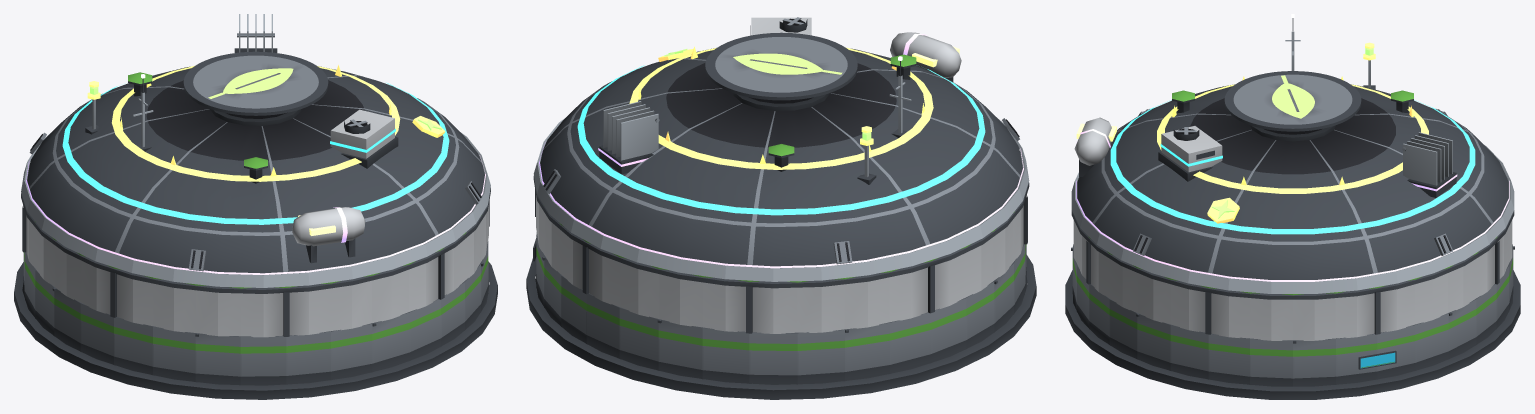
Rendered from fungus_farm_s.glb.
3 renders of one model, left to right at view 1: azimuth 30°, elevation 25°; view 2: azimuth 150°, elevation 25°; view 3: azimuth 270°, elevation 25°, orthographic. The views are drawn at different scales.
Visible parts, largest first — view 1: Roof, Base, L3, L4, L5, Wall_21, Wall_20, Upper_21, Wall_22, Upper_22, Upper_20, Wall_19 (+29 smaller); view 2: Roof, Base, L4, L3, L5, Wall_10, Wall_11, Wall_09, Upper_10, Upper_11, Wall_08, Wall_12 (+33 smaller); view 3: Roof, Base, L3, L4, L5, Wall_00, Wall_31, Upper_01, Upper_30, Wall_30, Upper_00, Upper_31 (+30 smaller).
Boxes of the visible parts, box(x1,y1,x2,y2) form: Roof: box(21, 51, 490, 289); Base: box(14, 261, 497, 399); L3: box(62, 82, 449, 224); L4: box(26, 14, 485, 274); L5: box(85, 65, 445, 181); Wall_21: box(240, 335, 286, 385); Wall_20: box(195, 333, 240, 385); Upper_21: box(240, 288, 286, 337); Wall_22: box(286, 331, 330, 384); Upper_22: box(286, 284, 331, 336); Upper_20: box(195, 286, 240, 336); Wall_19: box(152, 326, 195, 381); Roof: box(534, 32, 1028, 283); Base: box(526, 255, 1036, 399); L4: box(539, 32, 1023, 268); L3: box(577, 17, 985, 215); L5: box(629, 46, 933, 184); Wall_10: box(749, 332, 797, 384); Wall_11: box(797, 329, 844, 384); Wall_09: box(702, 327, 749, 383); Upper_10: box(749, 282, 797, 333); Upper_11: box(797, 280, 845, 332); Wall_08: box(657, 319, 702, 379); Wall_12: box(845, 322, 889, 380); Roof: box(1071, 71, 1514, 295); Base: box(1065, 270, 1520, 399); L3: box(1110, 100, 1475, 234); L4: box(1074, 117, 1509, 281); L5: box(1157, 42, 1428, 223); Wall_00: box(1293, 338, 1335, 386); Wall_31: box(1250, 338, 1292, 386); Upper_01: box(1335, 289, 1378, 338); Upper_30: box(1207, 289, 1250, 338); Wall_30: box(1208, 333, 1249, 384); Upper_00: box(1293, 294, 1335, 340); Upper_31: box(1250, 294, 1292, 340).
Size of the model in its own units: 11.74 by 6.74 by 11.74.
